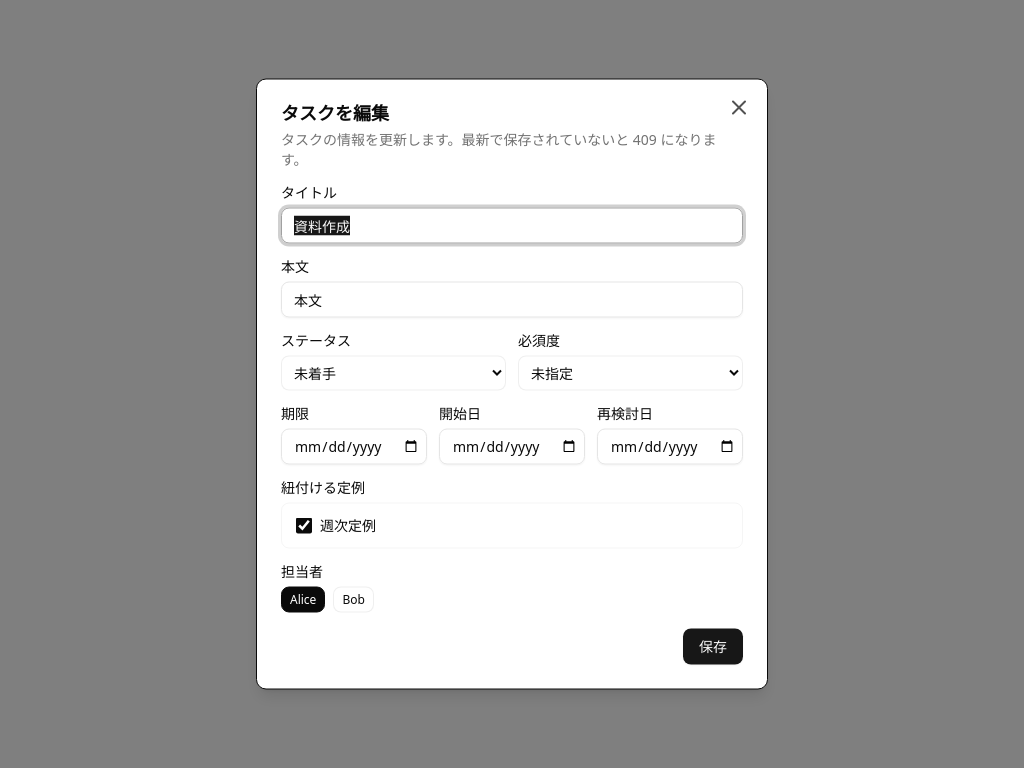
it: EditTaskDialog › 409 (version 不一致) は専用メッセージと再取得ボタンを表示する
Step 1. Replace the text in the field labelled "タイトル" with "更新後" → (512, 226), box [281,208,743,244]
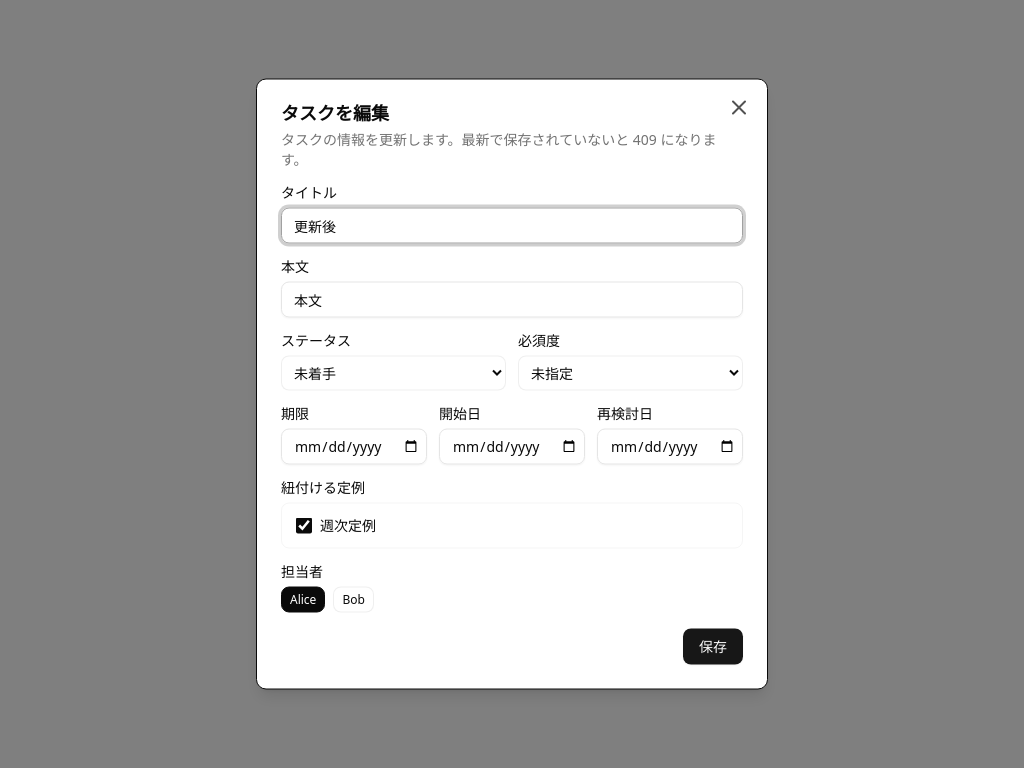
Step 2. Click the button "保存" → (713, 646), box [683,628,743,664]
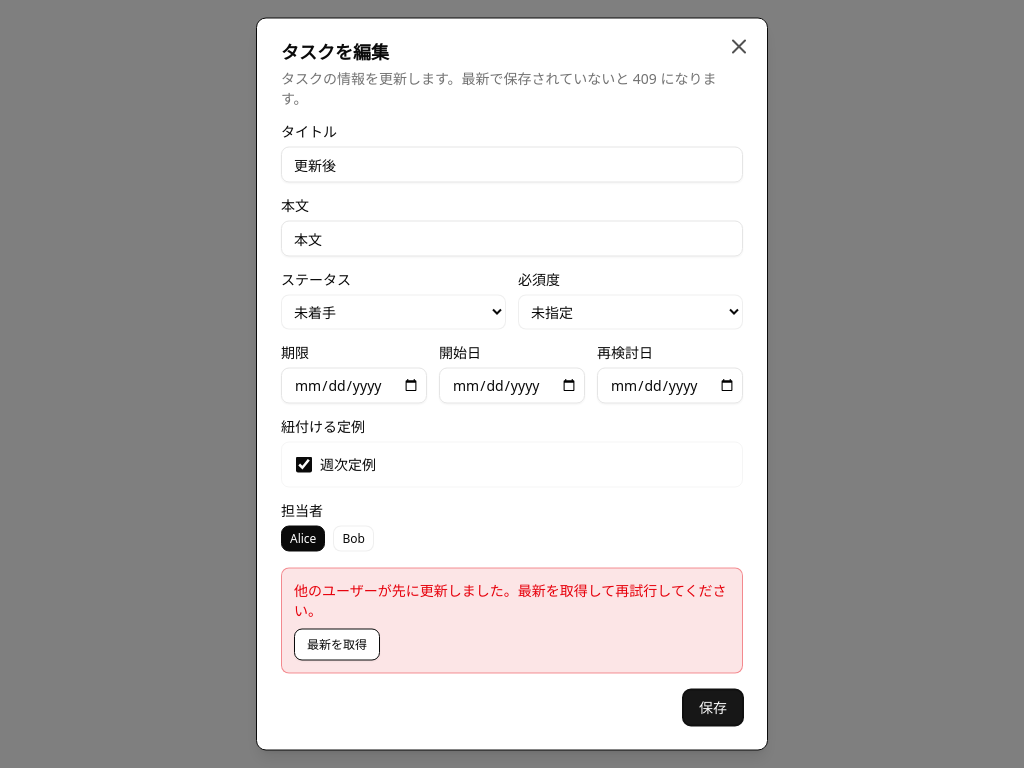
Now the text "他のユーザーが先に更新しました。最新を取得して再試行してください。" is shown, box [294,580,730,620]
Now the button "最新を取得" is shown, box [294,628,380,660]
